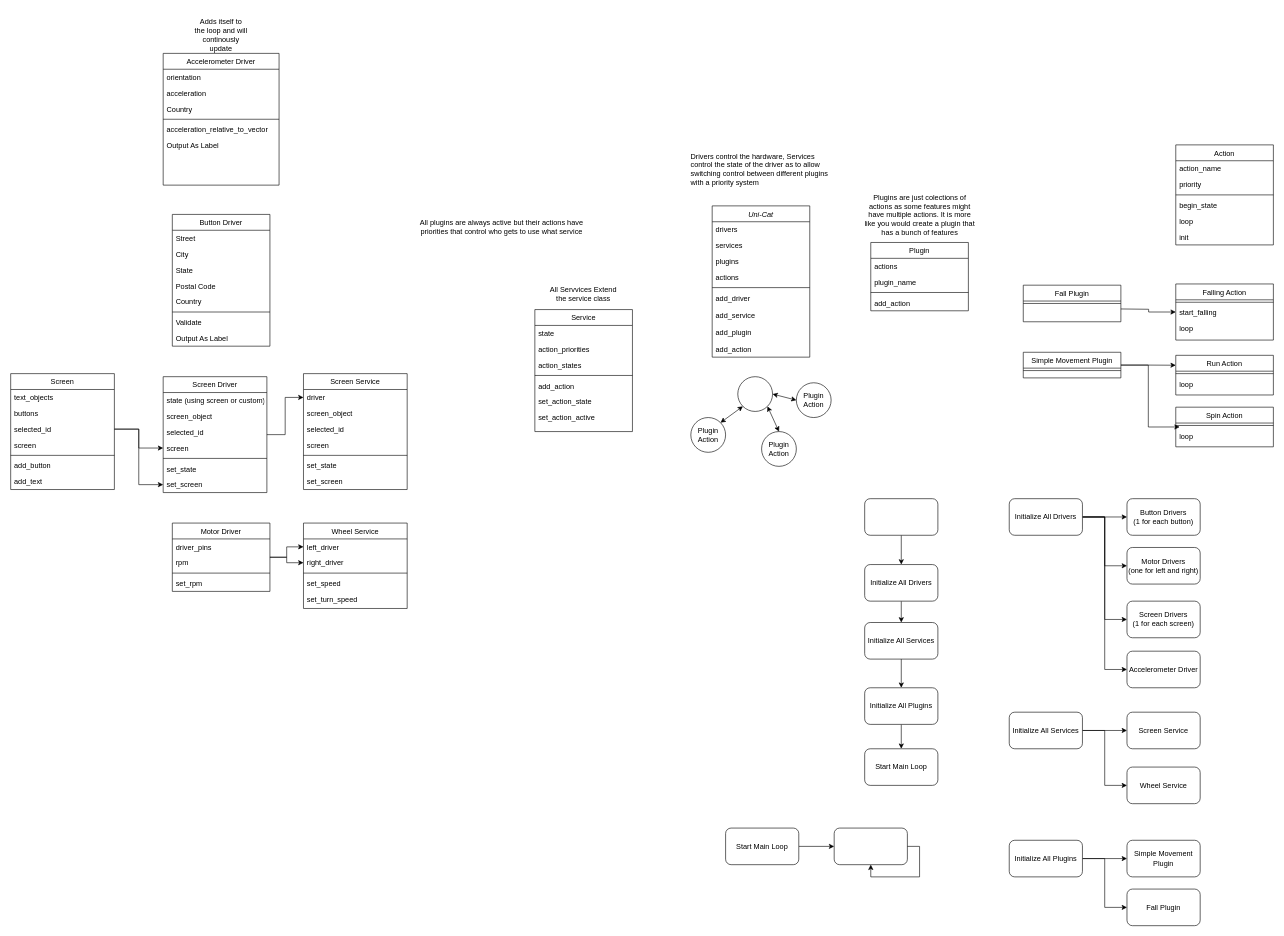
Image size: 1284x936. Some labels were removed from this diagram. Here are the shapes that lost their labels. From the top down, the centre of each, then its label:
the point at 755,393: Main Node
the point at 901,516: Program State
the point at 870,846: For each plugin call the loop function of every action
